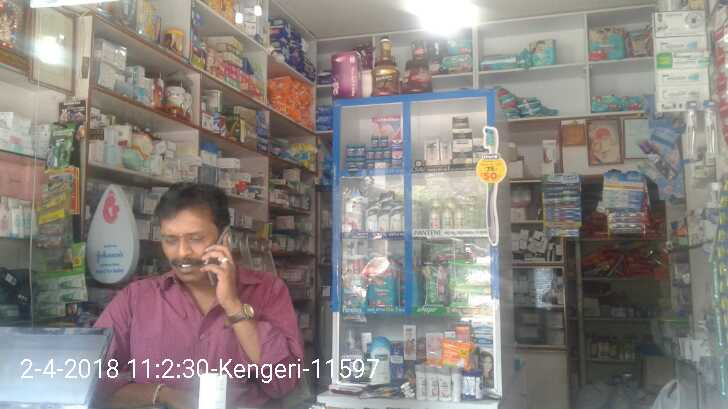oralcare: (542, 169, 581, 236), (600, 171, 647, 213), (705, 101, 721, 153), (685, 101, 698, 160), (606, 217, 645, 236)
vicks: (345, 137, 391, 167), (391, 137, 402, 167)
